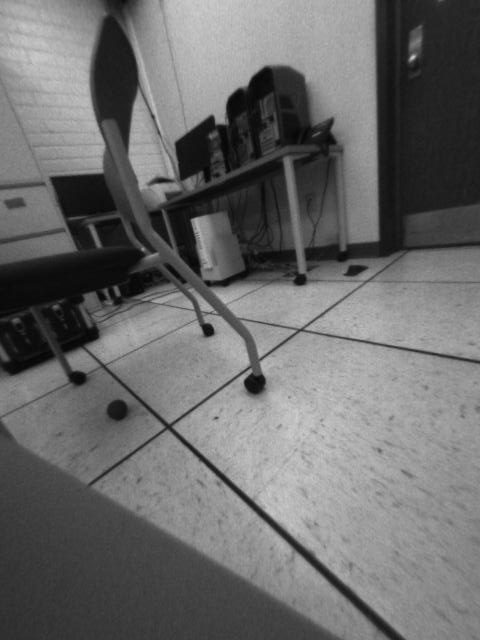dogtoy: (103, 390, 137, 429)
